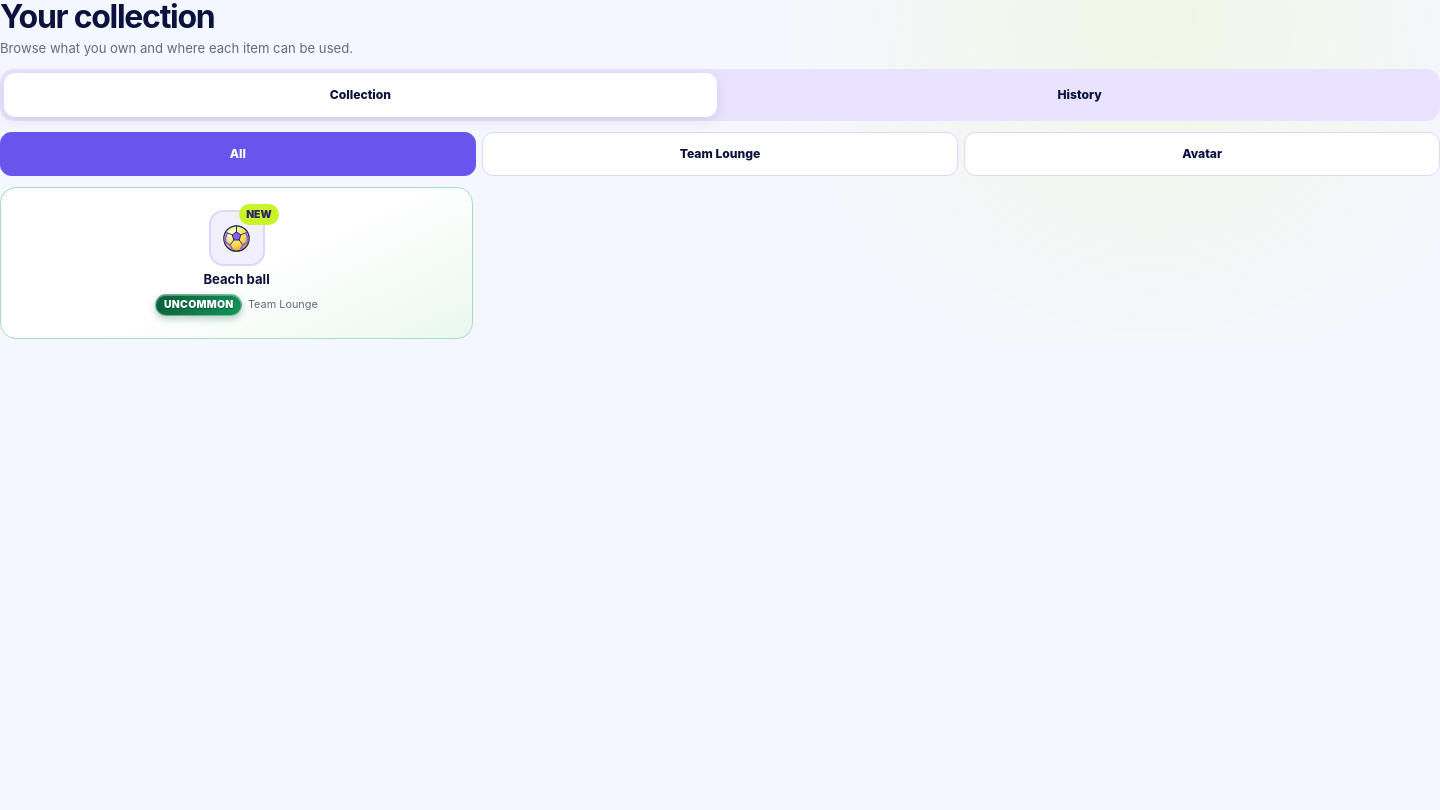
Test: PrizeCollection › keeps an unviewed prize owned and marked New when markViewed fails
Expected: the text "New" is shown, [239,204,279,226]
Click the button with aria-label "View Beach ball". click: (237, 263)
box: [0,187,473,339]
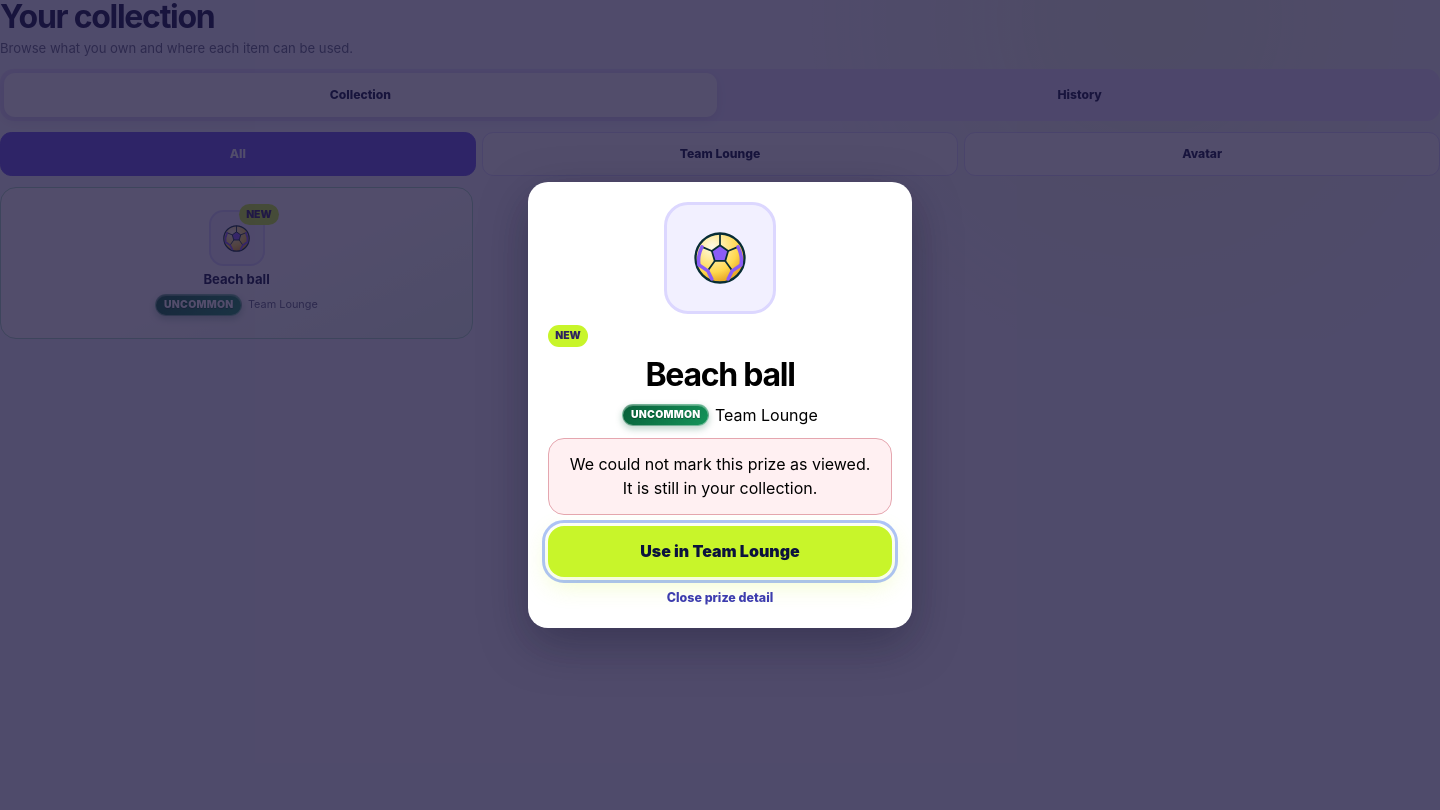
Expected: the 1st text "New" is shown, [239,204,279,226]
Expected: the dialog "Beach ball" is shown, [528,182,912,628]
Expected: the message shows "still in your collection", [570,454,870,498]
